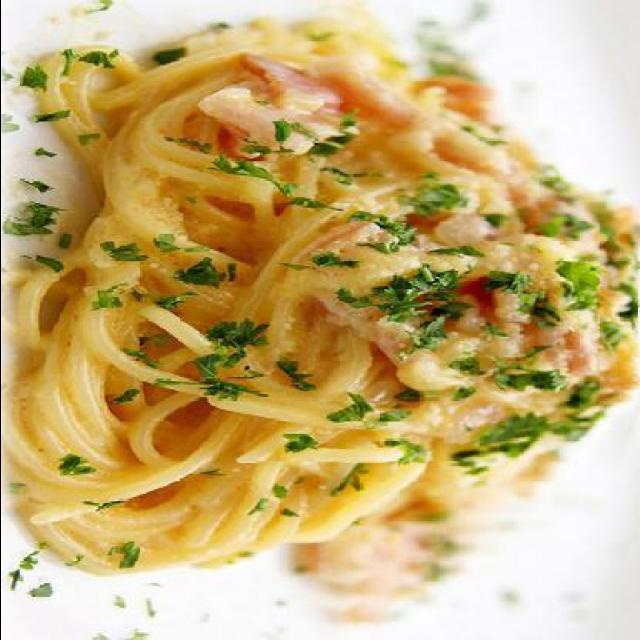Pasta with carbonara sauce: (13, 18, 625, 624)
